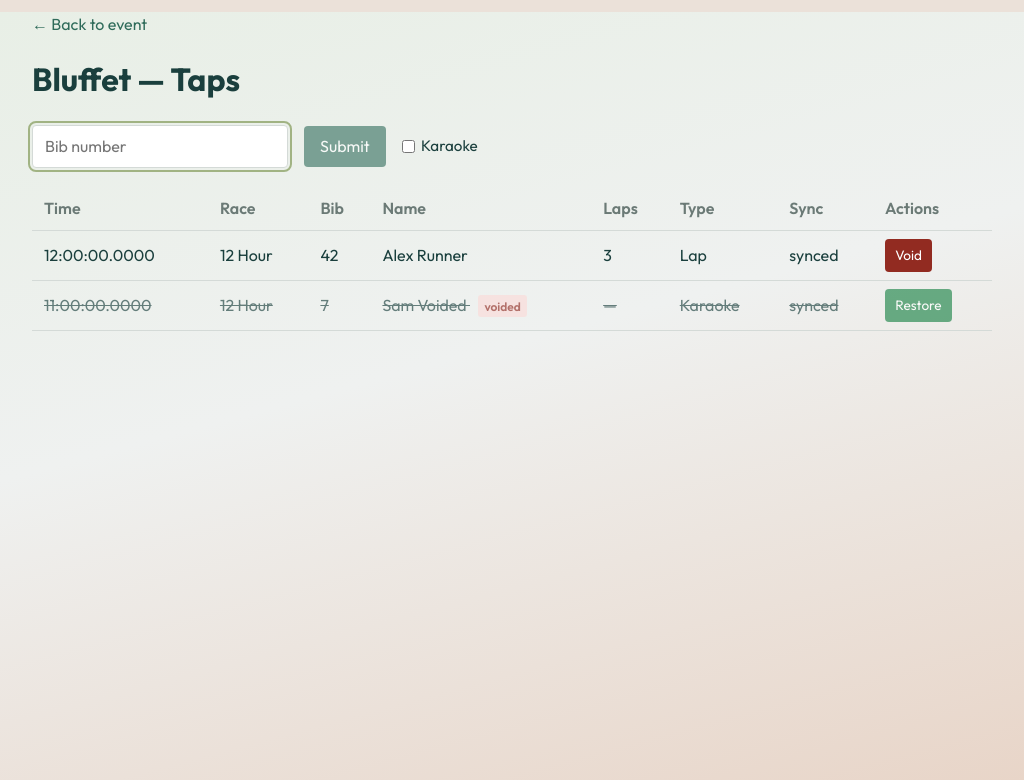
Test: EventTaps.vue › blocks production bib submit while event test mode is open
Type "42" into the field with test id "inline-bib-input" at (160, 147), box [32,125,288,168]
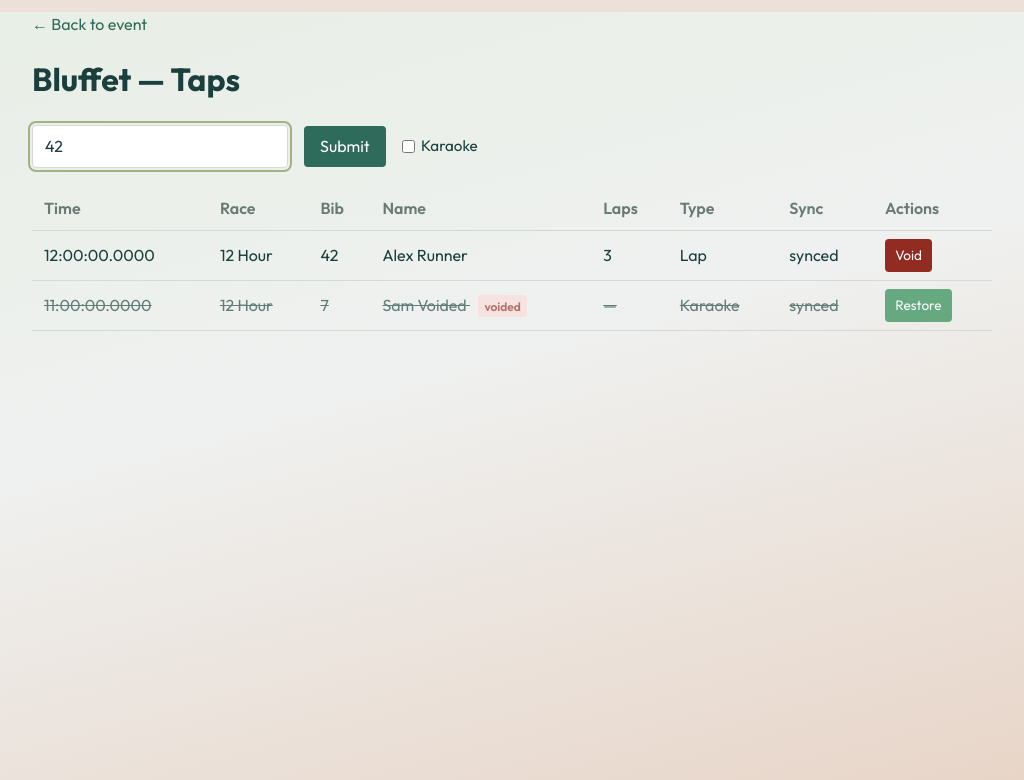
Press Enter in the field with test id "inline-bib-input", box [32,125,288,168]
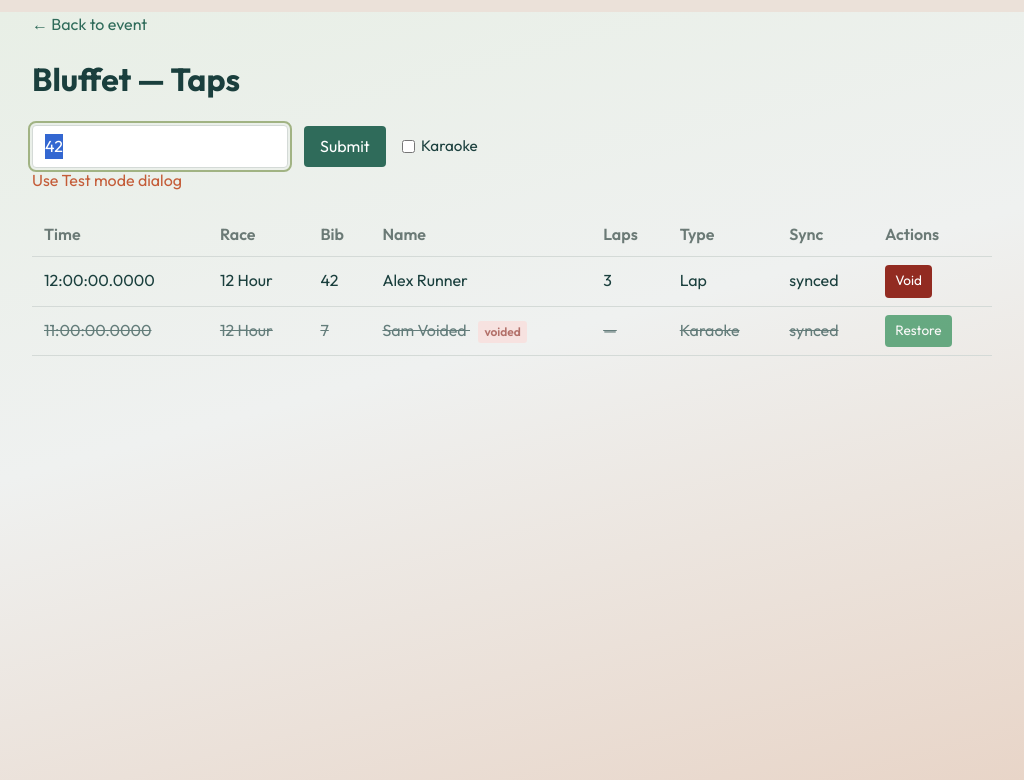
expect the message with test id "inline-bib-error" shows "Test mode": met, box [32,170,182,190]
